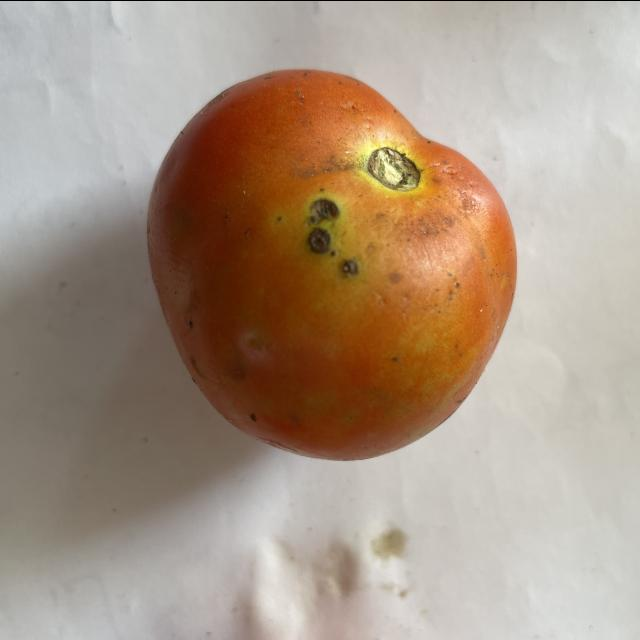fruitworm_bore: (297, 193, 367, 285)
